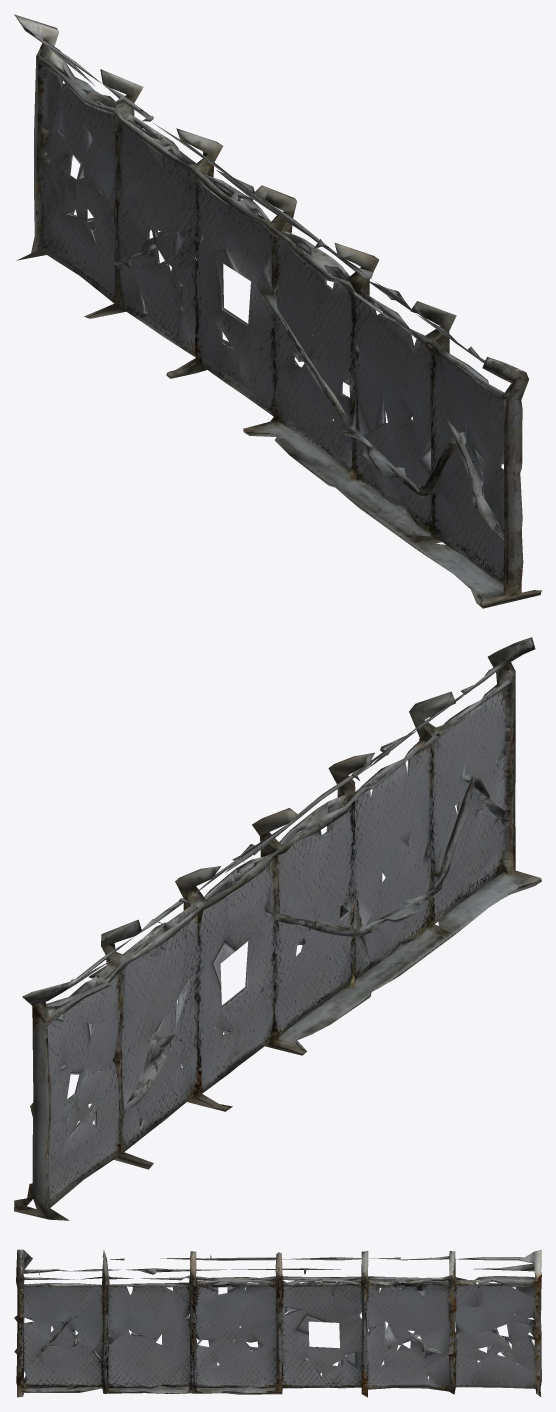
Rendered from qr_chainfence.glb.
3 views of the same model, one above another, from view 1: azimuth 30°, elevation 25°; view 2: azimuth 150°, elevation 25°; view 3: azimuth 270°, elevation 25° (orthographic). The views are drawn at different scales.
Parts seen in each view (by area): view 1: tripo_node_8d487cde-78b3-4e7b-b1a6-dd81e40b3bcc; view 2: tripo_node_8d487cde-78b3-4e7b-b1a6-dd81e40b3bcc; view 3: tripo_node_8d487cde-78b3-4e7b-b1a6-dd81e40b3bcc.
Part boxes in pixels (x1,y1,x2,y2): tripo_node_8d487cde-78b3-4e7b-b1a6-dd81e40b3bcc: (14, 14, 541, 608); tripo_node_8d487cde-78b3-4e7b-b1a6-dd81e40b3bcc: (14, 637, 541, 1220); tripo_node_8d487cde-78b3-4e7b-b1a6-dd81e40b3bcc: (14, 1249, 541, 1397).
Size of the model in its own units: 0.0747 by 0.2848 by 1.
Materials: 1 (1 with a texture image).
